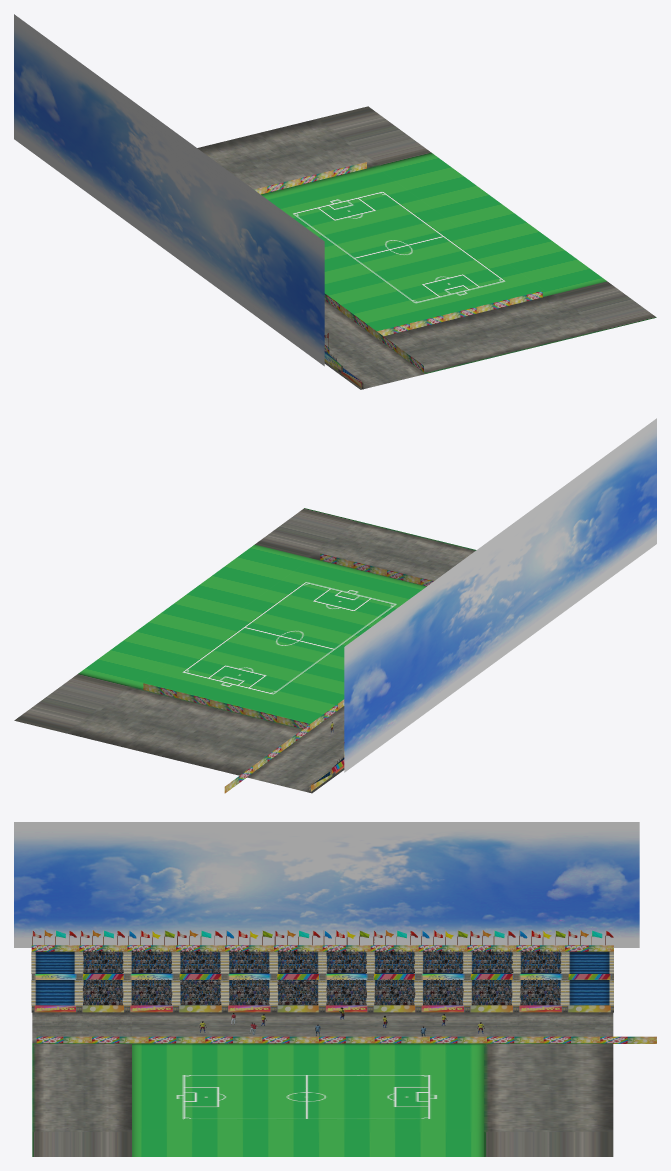
Rendered from zuqiuchang1223.FBX.
The picture shows the model from 3 angles, top to bottom: view 1: azimuth 30°, elevation 25°; view 2: azimuth 150°, elevation 25°; view 3: azimuth 270°, elevation 25°; orthographic projection.
Parts seen in each view (by area): view 1: zuqiuchang-caoping, Plane01, zuqiuchang-hengfu01; view 2: zuqiuchang-caoping, Plane01, zuqiuchang-hengfu01; view 3: zuqiuchang-caoping, Plane01, zuqiuchang-hengfu01, zuqiuchang-zuowei01, Object46, Object47, Object25, Object24, zuqiuchang-qizi, Object23, zuqiuchang-qizi01, Object01 (+2 smaller).
Boxes of the visible parts, box(x1,y1,x2,y2) form: zuqiuchang-caoping: box(197, 106, 656, 389); Plane01: box(14, 14, 324, 366); zuqiuchang-hengfu01: box(254, 162, 542, 389); zuqiuchang-caoping: box(14, 508, 476, 793); Plane01: box(344, 418, 656, 772); zuqiuchang-hengfu01: box(143, 553, 433, 793); zuqiuchang-caoping: box(32, 1012, 613, 1156); Plane01: box(14, 822, 639, 947); zuqiuchang-hengfu01: box(31, 945, 656, 1043); zuqiuchang-zuowei01: box(31, 951, 613, 1005); Object46: box(326, 950, 561, 968); Object47: box(326, 954, 561, 972); Object25: box(326, 978, 560, 994); Object24: box(326, 985, 560, 1001); zuqiuchang-qizi: box(32, 930, 369, 945); Object23: box(326, 983, 560, 997); zuqiuchang-qizi01: box(373, 930, 613, 945); Object01: box(326, 999, 560, 1005).
Size of the model in its own units: 4920 by 7976 by 2294.
